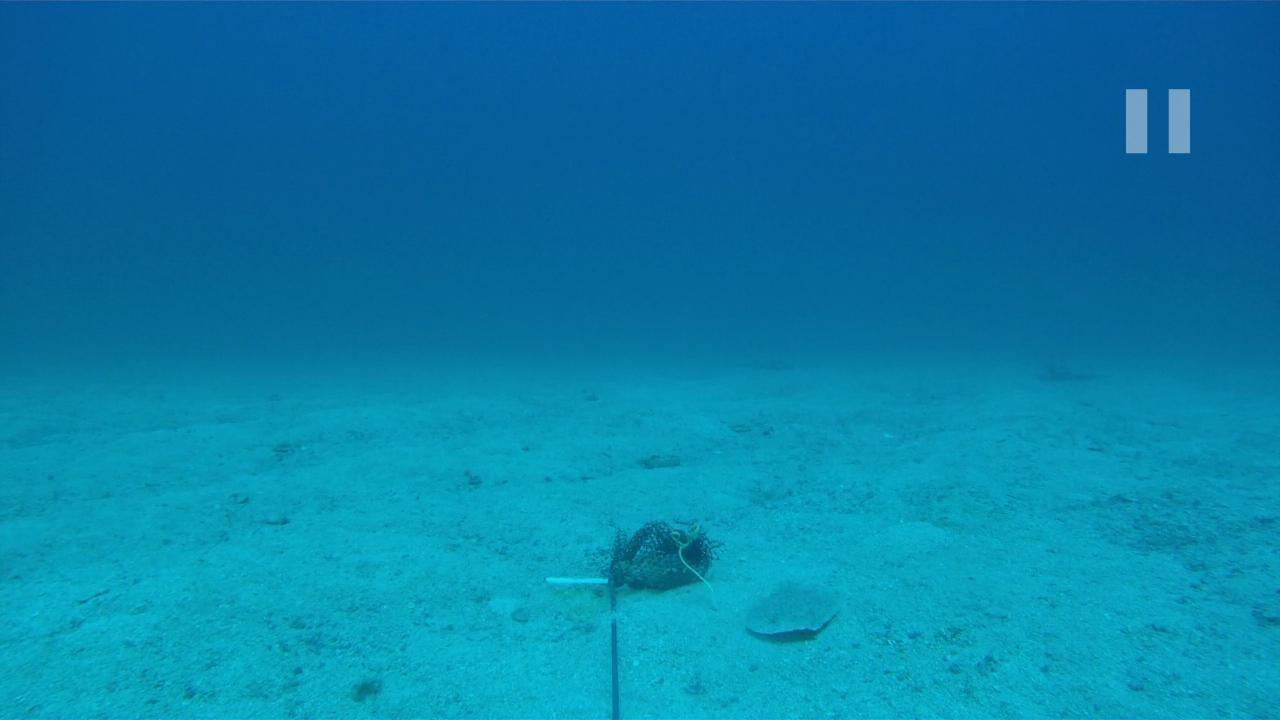bothus: (743, 570, 840, 644)
